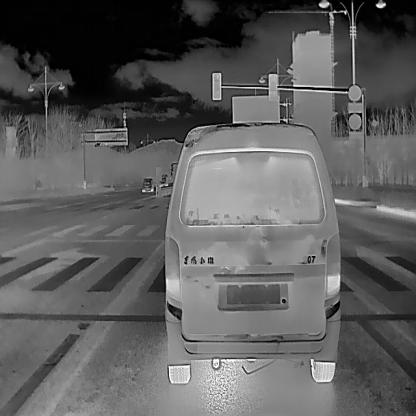car: (165, 119, 342, 384), (141, 177, 153, 192), (160, 173, 166, 186)
